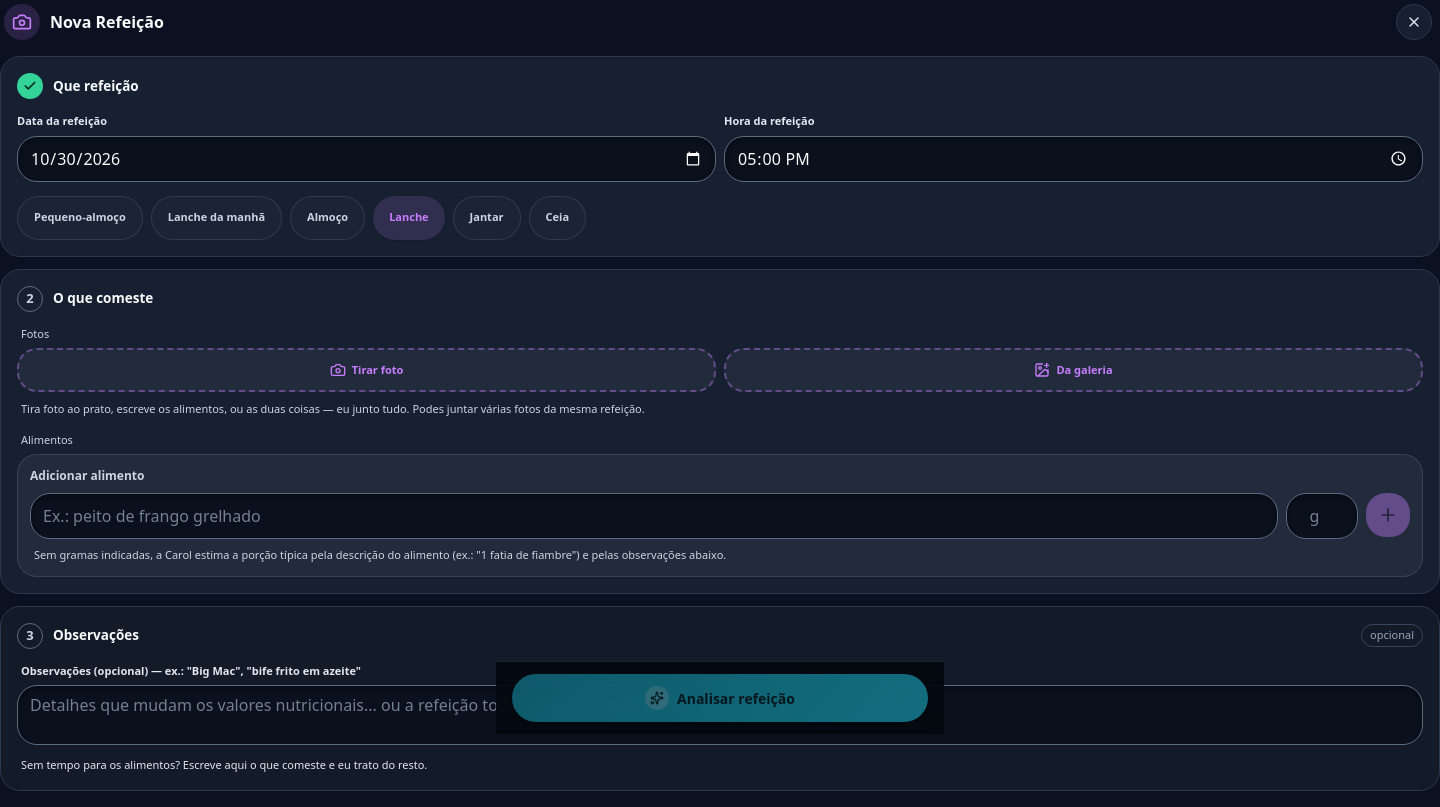
MealRegistration — registo manual: adicionar é local, análise só no fim (analyze-meal) › permite adicionar e remover vários alimentos, sempre localmente
In the field with placeholder "Ex.: peito de frango grelhado": (654, 516) x1=30 y1=493 x2=1278 y2=539, type "Arroz"
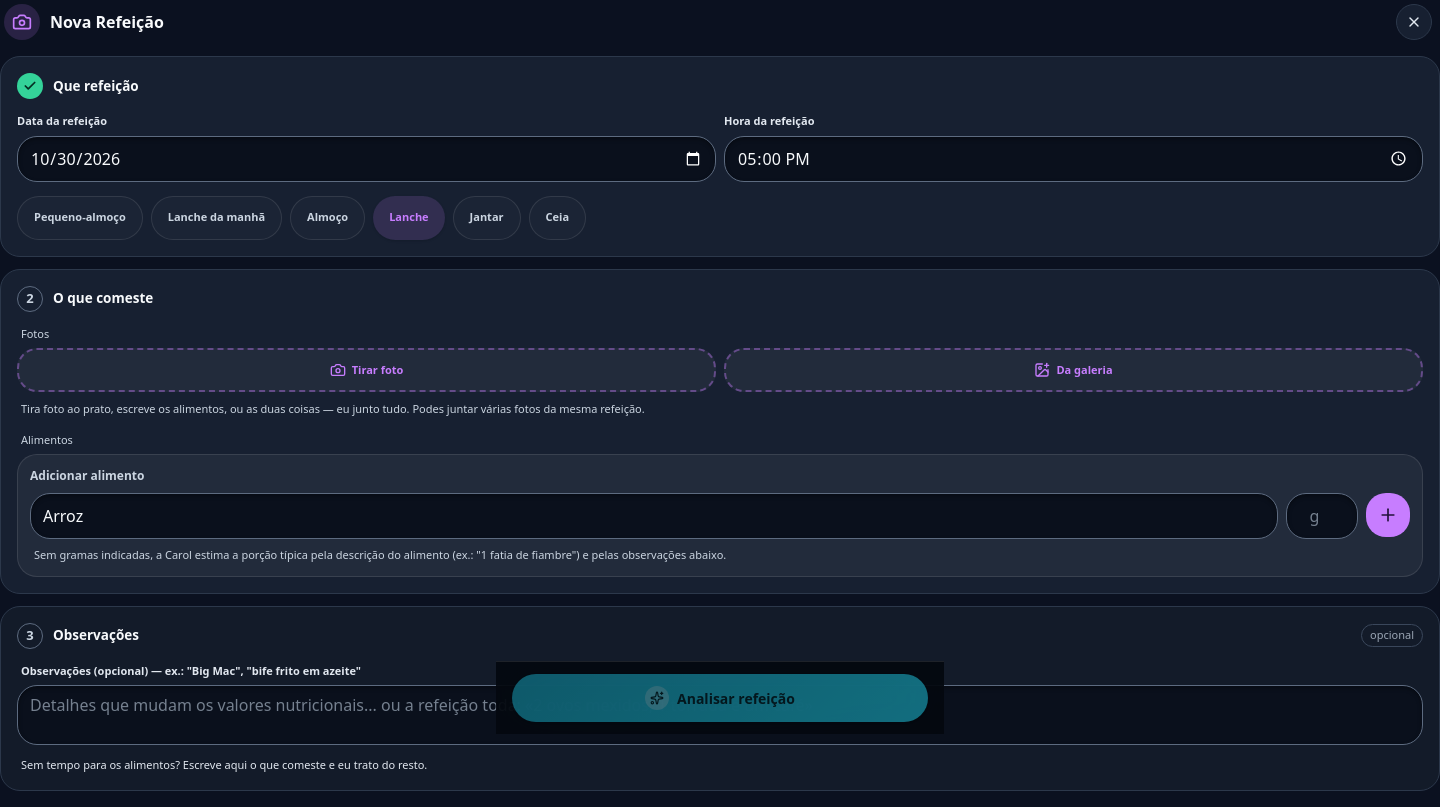
In the number field named "Gramas do alimento a adicionar (opcional)": (1322, 516) x1=1286 y1=493 x2=1358 y2=539, type "100"
Click the button named "Adicionar alimento": (1388, 515) x1=1366 y1=493 x2=1410 y2=537
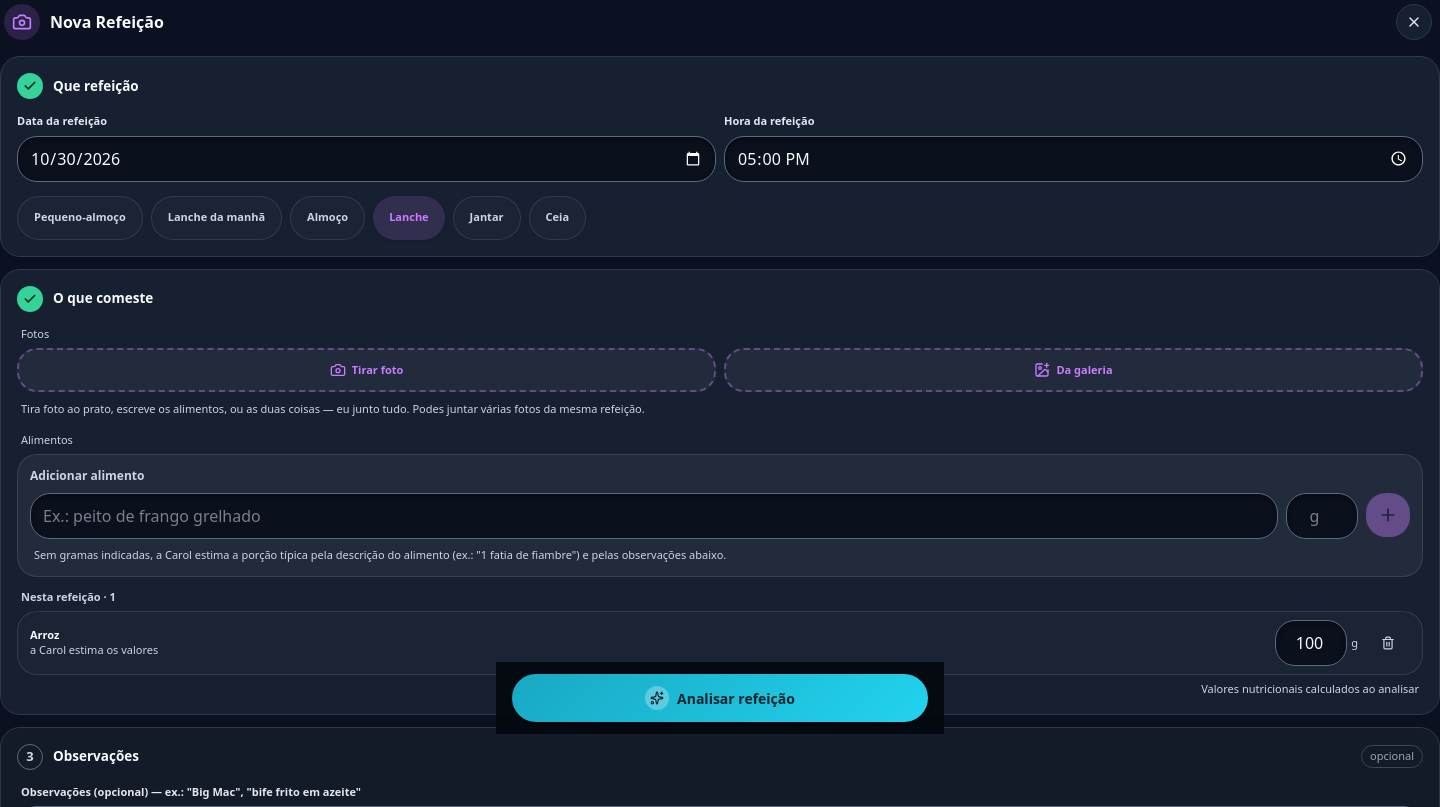
In the field with placeholder "Ex.: peito de frango grelhado": (654, 516) x1=30 y1=493 x2=1278 y2=539, type "Feijão"
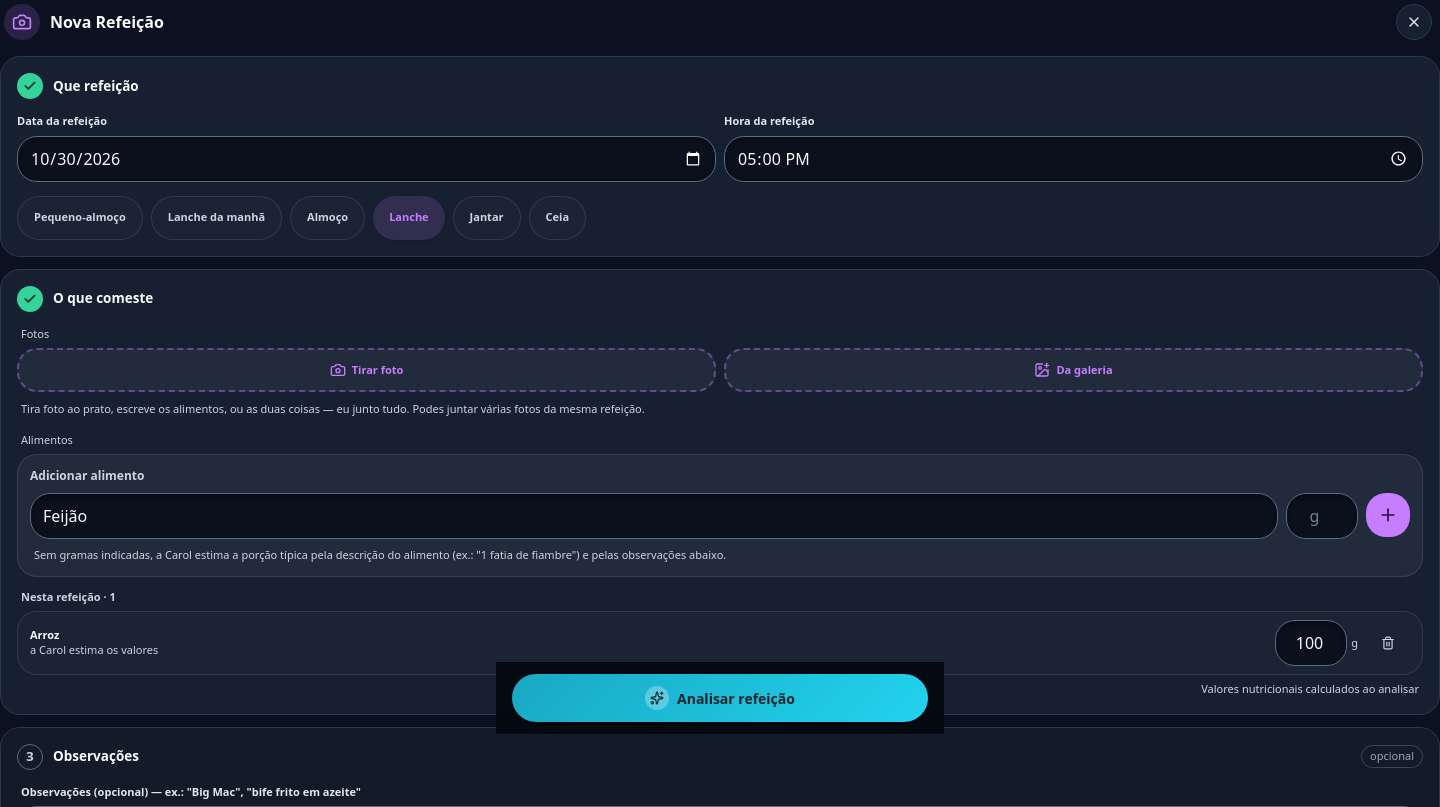
In the number field named "Gramas do alimento a adicionar (opcional)": (1322, 516) x1=1286 y1=493 x2=1358 y2=539, type "80"
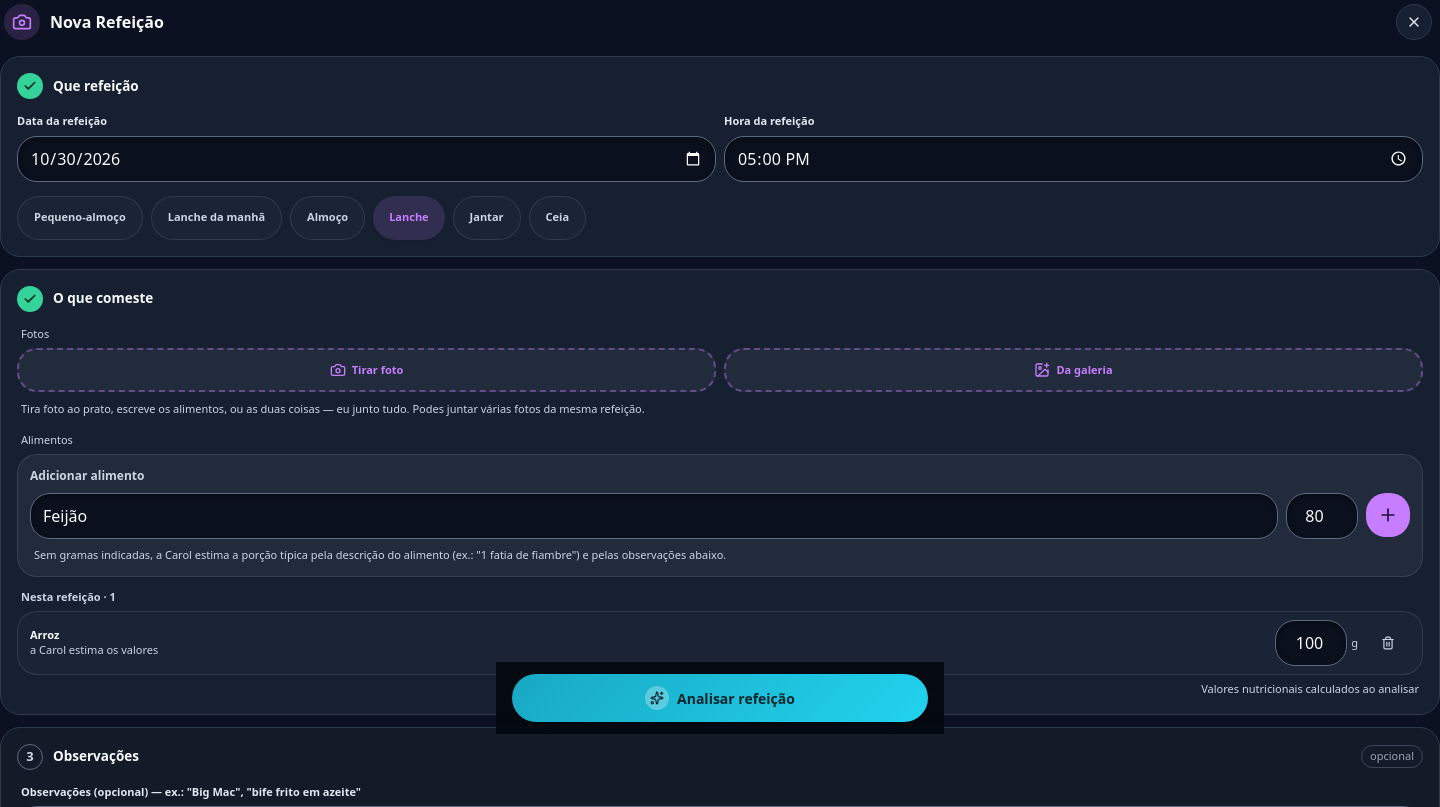
Click the button named "Adicionar alimento": (1388, 515) x1=1366 y1=493 x2=1410 y2=537
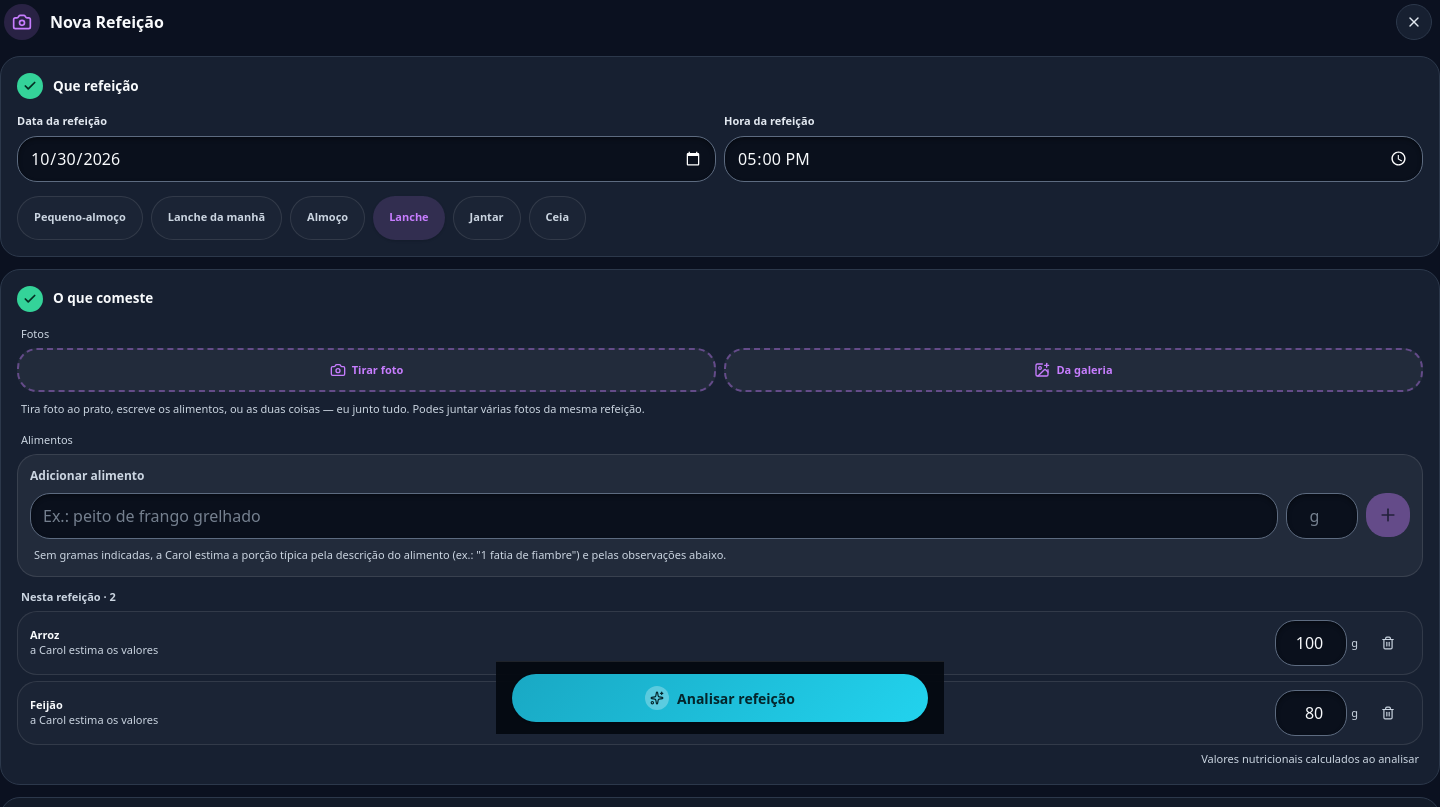
Expected: the text "Arroz" is shown, x1=30 y1=626 x2=59 y2=642
Expected: the text "Feijão" is shown, x1=30 y1=696 x2=63 y2=712
Click the button named "Remover Arroz": (1388, 643) x1=1366 y1=621 x2=1410 y2=665
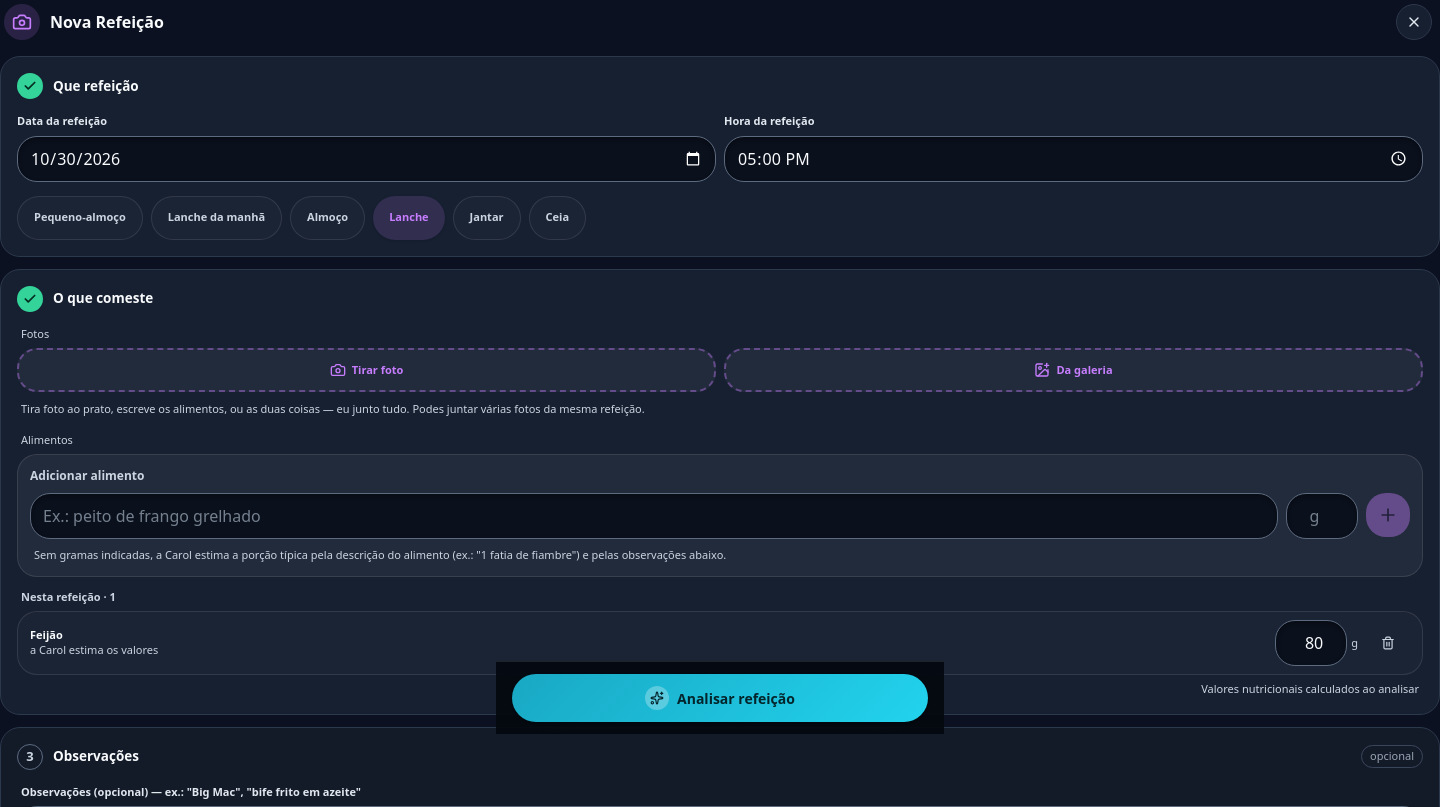
Expected: the text "Feijão" is shown, x1=30 y1=626 x2=63 y2=642
Expected: the text "Arroz" is gone
